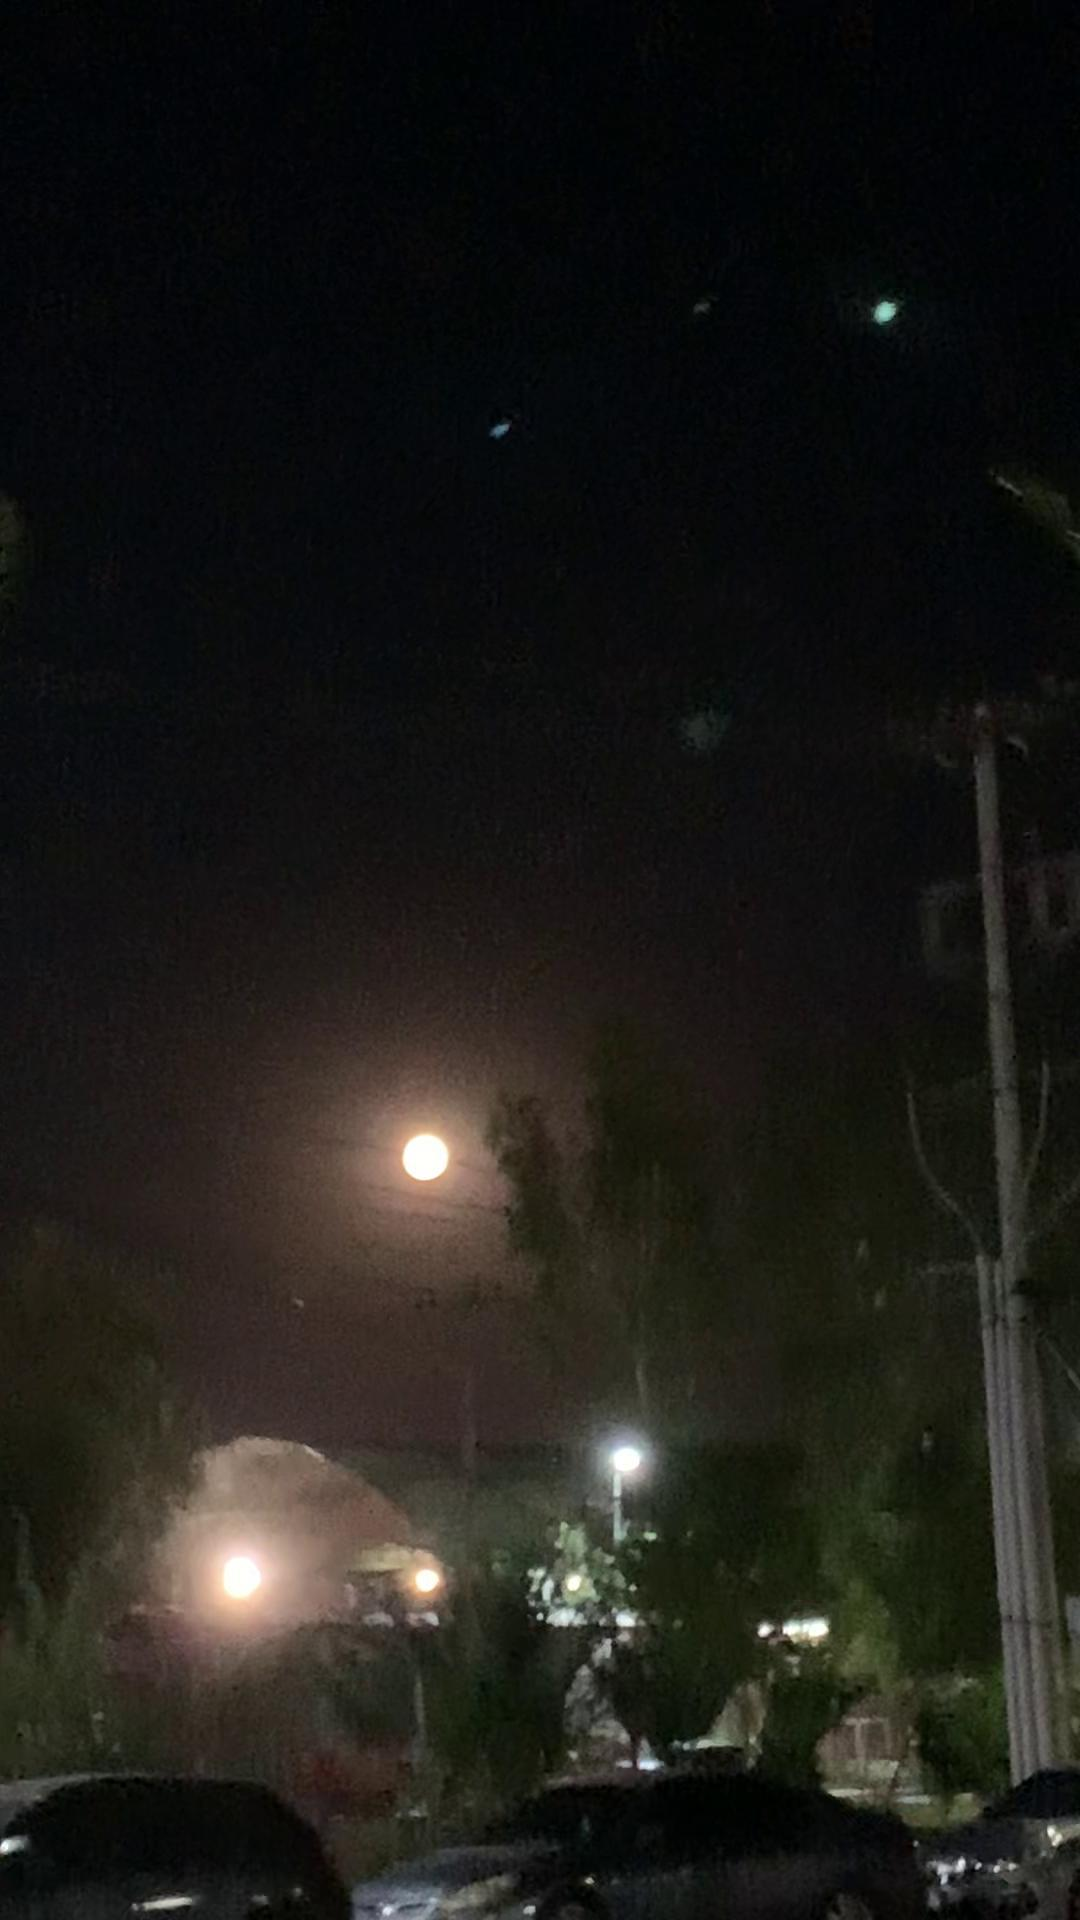moon: (386, 1104, 475, 1180)
